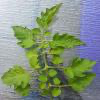Tomato Septoria leaf spot: (64, 56, 97, 80), (0, 66, 30, 90), (25, 55, 41, 71), (50, 53, 63, 66), (25, 49, 40, 60), (47, 45, 65, 54)
